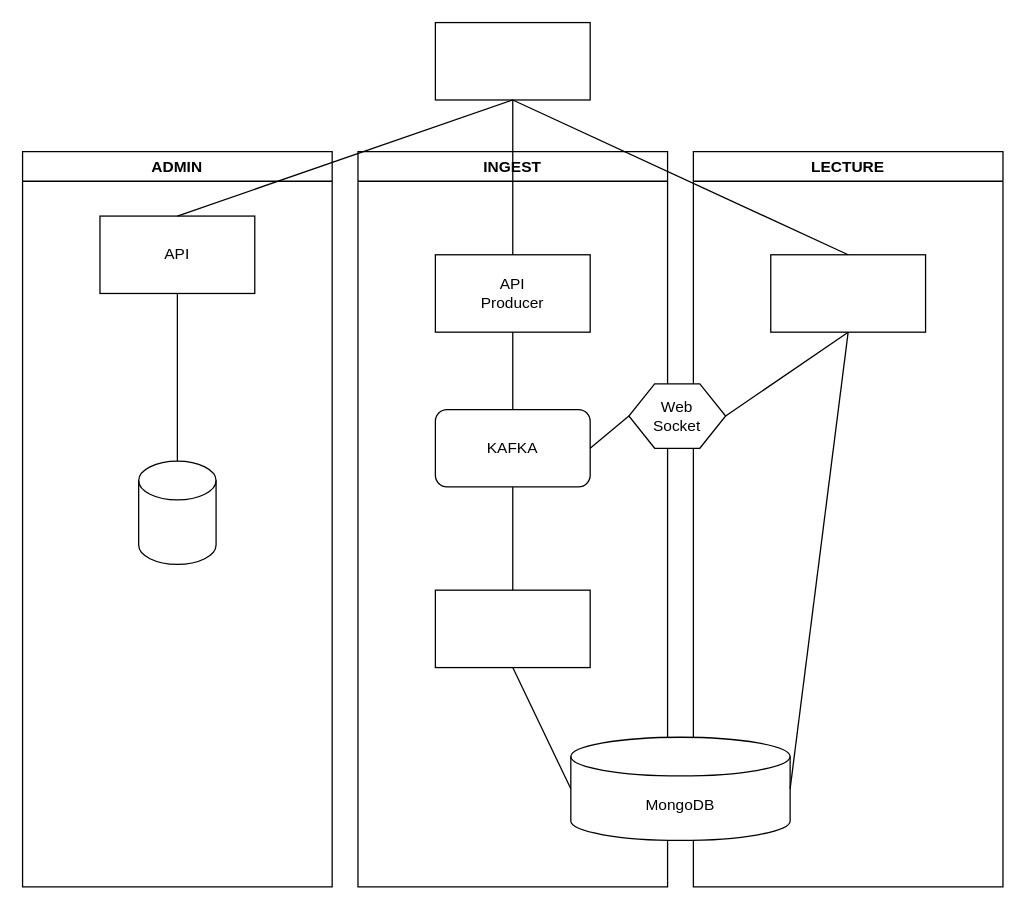
This 1026x909 diagram has some shape labels left out. The box of each missing label's shape, as (x1, y1, x2, y2) in pixels:
API Consumer: (769, 253, 926, 332)
Consumer: (434, 589, 590, 668)
DB MySQL: (137, 460, 216, 564)
FRONT: (434, 21, 590, 100)
